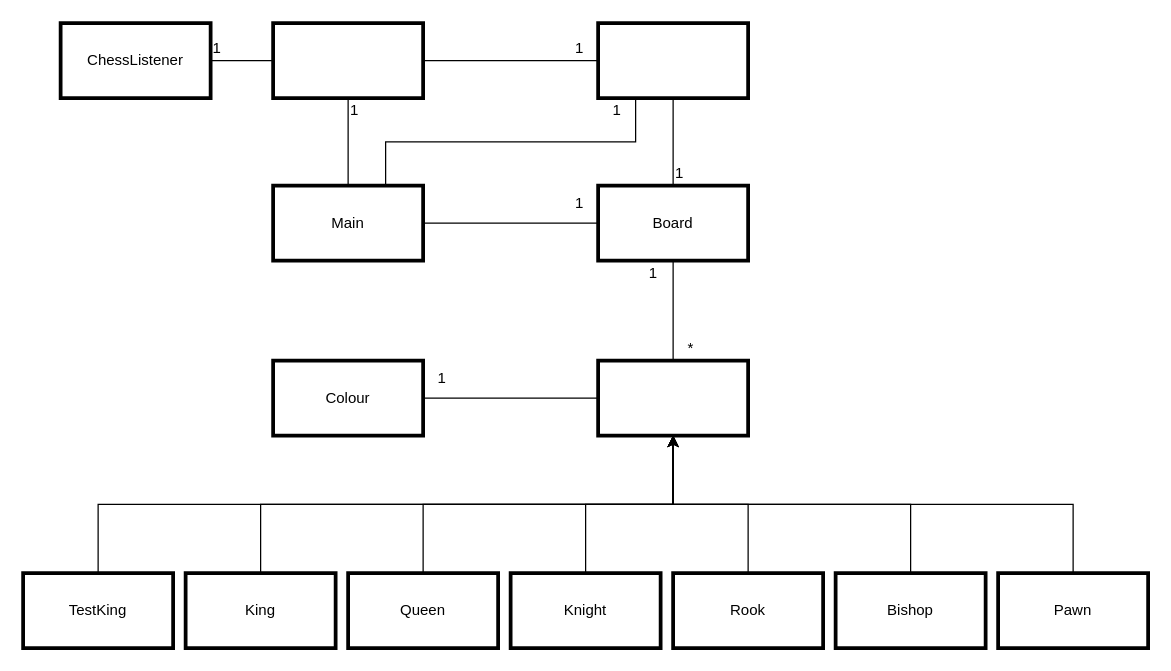
This 1171x671 diagram has some shape labels left out. The centre of each missing label's shape, as x and y in pixels:
"ChessGUI" goes at [347,60].
"Game" goes at [672,60].
"Piece" goes at [672,397].
